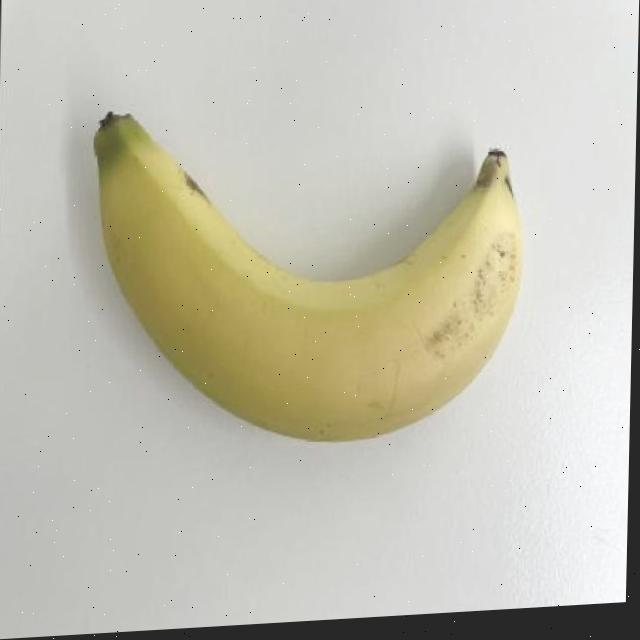banana: (78, 75, 535, 470)
